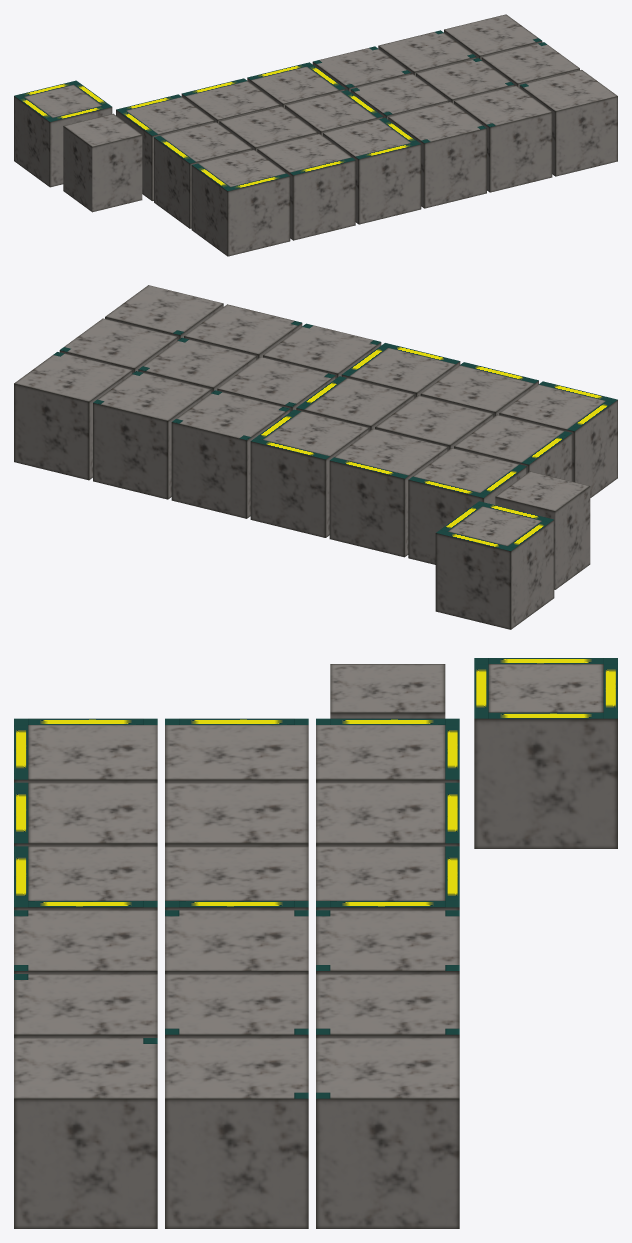
File: test_lab_floor.glb
The picture shows the model from 3 angles, top to bottom: view 1: azimuth 30°, elevation 25°; view 2: azimuth 150°, elevation 25°; view 3: azimuth 270°, elevation 25°; orthographic projection. The views are drawn at different scales.
Visible parts, largest first — view 1: TestLabFloor.003, TestLabFloor.009, TestLabFloor.001, TestLabFloor.011, TestLabFloor.017, TestLabFloor.004, TestLabFloor.013, TestLabFloor, TestLabFloor.006, TestLabFloor.005, TestLabFloor.007, TestLabFloor.002 (+8 smaller); view 2: TestLabFloor, TestLabFloor.012, TestLabFloor.002, TestLabFloor.010, TestLabFloor.019, TestLabFloor.015, TestLabFloor.005, TestLabFloor.003, TestLabFloor.001, TestLabFloor.006, TestLabFloor.009, TestLabFloor.017 (+8 smaller); view 3: TestLabFloor, TestLabFloor.011, TestLabFloor.014, TestLabFloor.015, TestLabFloor.002, TestLabFloor.003, TestLabFloor.004, TestLabFloor.005, TestLabFloor.006, TestLabFloor.007, TestLabFloor.008, TestLabFloor.009 (+8 smaller).
Part boxes in pixels (<box>): TestLabFloor.003: <box>191,150,290,256</box>; TestLabFloor.009: <box>323,118,421,224</box>; TestLabFloor.001: <box>63,113,142,212</box>; TestLabFloor.011: <box>519,70,617,176</box>; TestLabFloor.017: <box>388,101,486,208</box>; TestLabFloor.004: <box>257,133,355,240</box>; TestLabFloor.013: <box>454,85,552,192</box>; TestLabFloor: <box>14,80,112,187</box>; TestLabFloor.006: <box>154,122,252,228</box>; TestLabFloor.005: <box>116,94,214,200</box>; TestLabFloor.007: <box>219,106,317,151</box>; TestLabFloor.002: <box>181,78,279,123</box>; TestLabFloor: <box>435,501,554,629</box>; TestLabFloor.012: <box>171,390,290,518</box>; TestLabFloor.002: <box>329,429,447,557</box>; TestLabFloor.010: <box>250,409,368,537</box>; TestLabFloor.019: <box>93,371,211,499</box>; TestLabFloor.015: <box>14,352,132,480</box>; TestLabFloor.005: <box>408,448,526,564</box>; TestLabFloor.003: <box>499,381,617,497</box>; TestLabFloor.001: <box>495,471,590,589</box>; TestLabFloor.006: <box>454,414,572,481</box>; TestLabFloor.009: <box>341,343,460,397</box>; TestLabFloor.017: <box>263,323,381,378</box>; TestLabFloor: <box>474,658,617,848</box>; TestLabFloor.011: <box>14,1038,157,1228</box>; TestLabFloor.014: <box>165,1038,308,1228</box>; TestLabFloor.015: <box>316,1038,459,1228</box>; TestLabFloor.002: <box>316,782,459,846</box>; TestLabFloor.003: <box>14,718,157,782</box>; TestLabFloor.004: <box>14,782,157,846</box>; TestLabFloor.005: <box>316,718,459,782</box>; TestLabFloor.006: <box>165,718,308,782</box>; TestLabFloor.007: <box>165,782,308,846</box>; TestLabFloor.008: <box>165,846,308,910</box>; TestLabFloor.009: <box>14,846,157,910</box>.
Size of the model in its own units: 14.5 by 2 by 8.4.
Materials: 2 (2 with a texture image).
